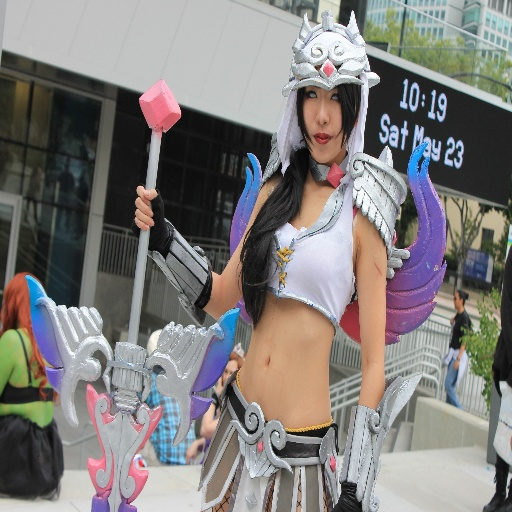hand: (124, 175, 160, 233), (331, 493, 363, 511), (185, 438, 198, 462), (215, 374, 224, 396), (452, 359, 460, 370), (448, 316, 454, 327)
